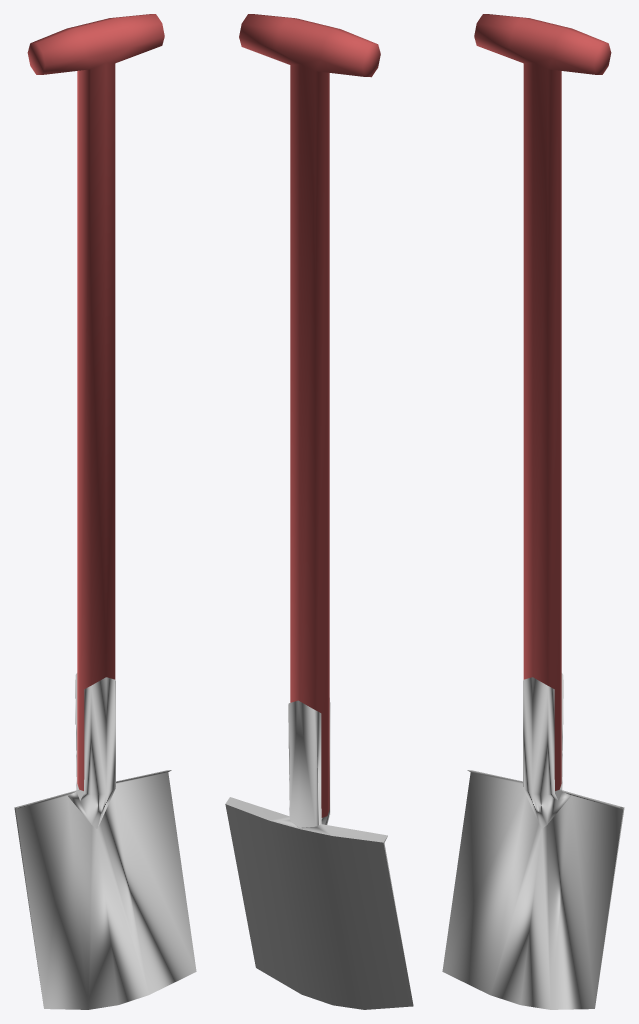
3 renders of one model, left to right at view 1: azimuth 30°, elevation 25°; view 2: azimuth 150°, elevation 25°; view 3: azimuth 330°, elevation 25°, orthographic. The views are drawn at different scales.
Parts seen in each view (by area): view 1: Blade, Handle; view 2: Handle, Blade; view 3: Blade, Handle.
Part boxes in pixels (x1,y1,x2,y2): Blade: (14, 673, 196, 1009); Handle: (27, 14, 164, 790); Handle: (239, 14, 380, 817); Blade: (225, 698, 413, 1009); Blade: (442, 673, 624, 1009); Handle: (474, 14, 611, 790).
Size of the model in its own units: 0.1979 by 1.19 by 0.0802.
